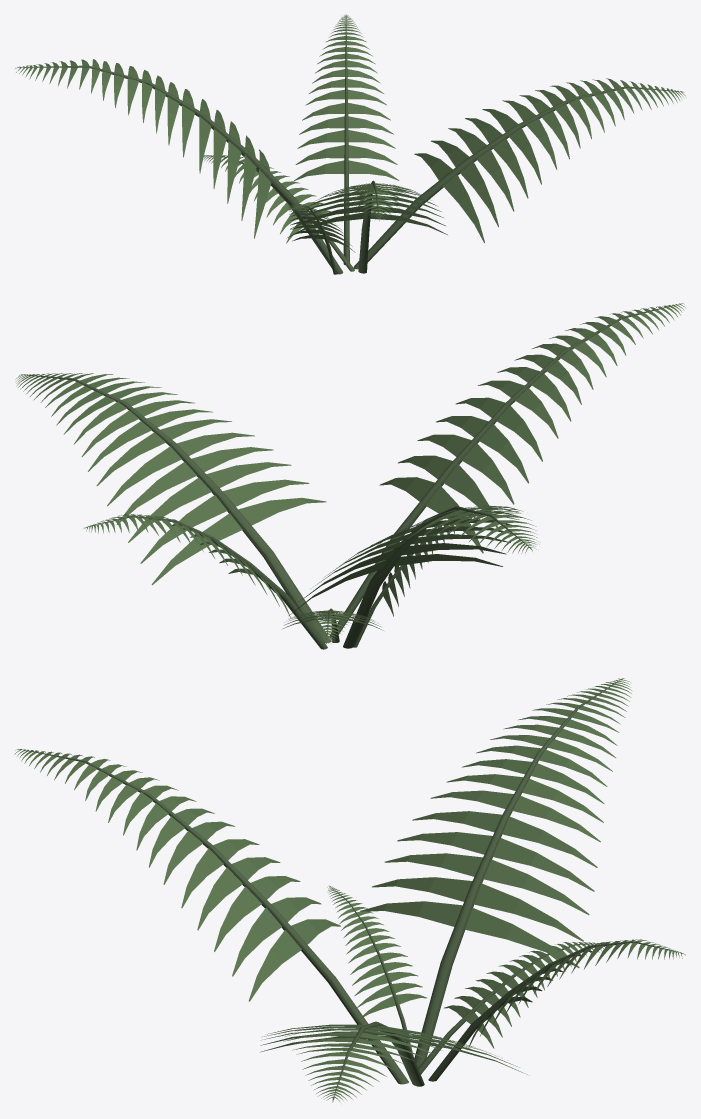
File: HealthyFernBush.fbx
3 renders of one model, top to bottom at view 1: azimuth 30°, elevation 25°; view 2: azimuth 150°, elevation 25°; view 3: azimuth 270°, elevation 25°, orthographic. The views are drawn at different scales.
Parts seen in each view (by area): view 1: leaves, fernStems; view 2: leaves, fernStems; view 3: leaves, fernStems.
Part boxes in pixels (x1=…): leaves: x1=15, y1=14, x2=686, y2=252; fernStems: x1=22, y1=15, x2=680, y2=274; leaves: x1=15, y1=303, x2=685, y2=644; fernStems: x1=23, y1=303, x2=680, y2=649; leaves: x1=14, y1=678, x2=685, y2=1102; fernStems: x1=20, y1=679, x2=681, y2=1097.
Bounding box in the file's own units: 30.96 × 10.87 × 26.24.
